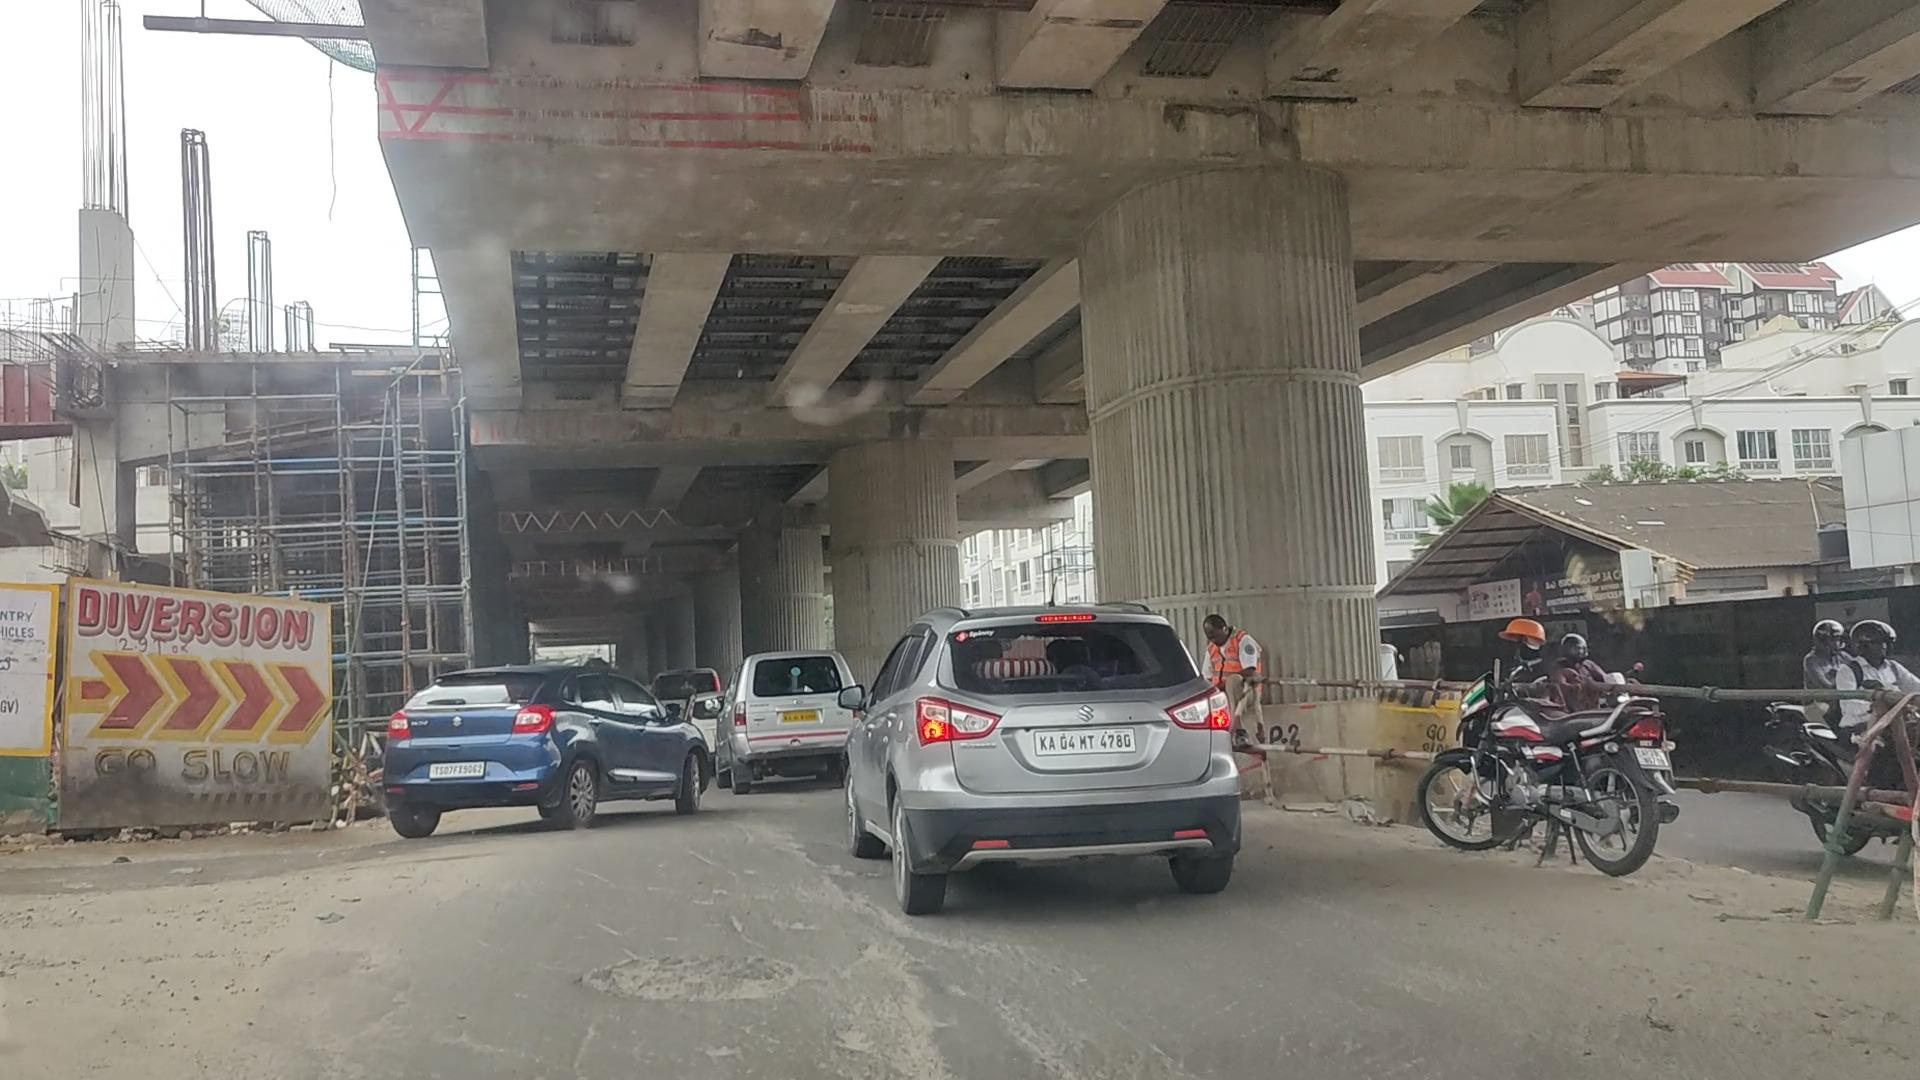LMV: (845, 611, 1233, 891), (388, 662, 711, 825), (728, 654, 858, 773)
RoadDamages: (832, 902, 1027, 1080), (572, 932, 811, 1029)
